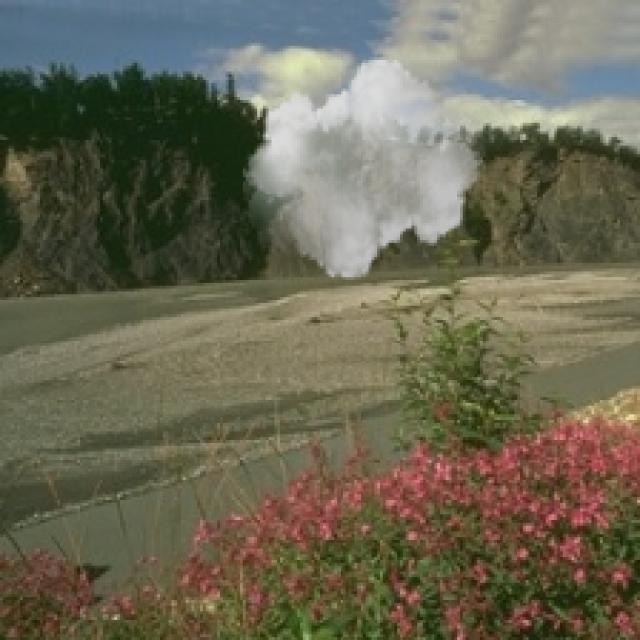smoke: (243, 49, 486, 288)
